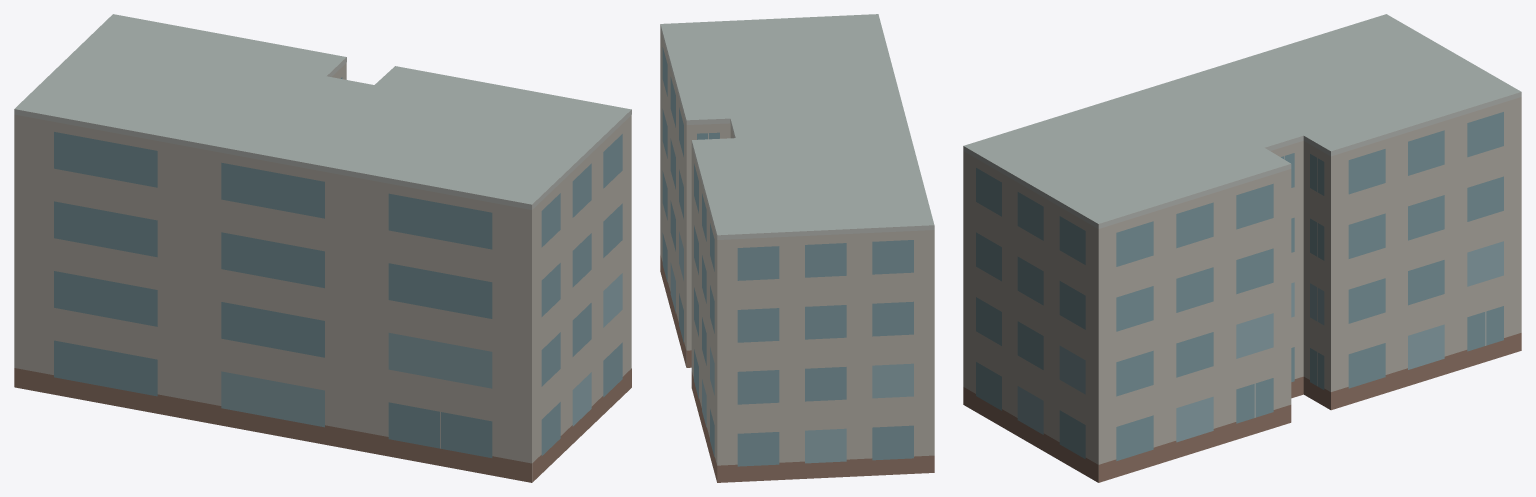
File: survey-upis-32663182.glb
The picture shows the model from 3 angles, left to right: view 1: azimuth 30°, elevation 25°; view 2: azimuth 150°, elevation 25°; view 3: azimuth 270°, elevation 25°; orthographic projection. The views are drawn at different scales.
Parts seen in each view (by area): view 1: survey-upis-32663182.tmp; view 2: survey-upis-32663182.tmp; view 3: survey-upis-32663182.tmp.
Part boxes in pixels (x1=…): survey-upis-32663182.tmp: x1=14, y1=14, x2=631, y2=482; survey-upis-32663182.tmp: x1=660, y1=14, x2=934, y2=482; survey-upis-32663182.tmp: x1=963, y1=14, x2=1521, y2=482.
Bounding box in the file's own units: 21.78 × 12.51 × 24.46.
